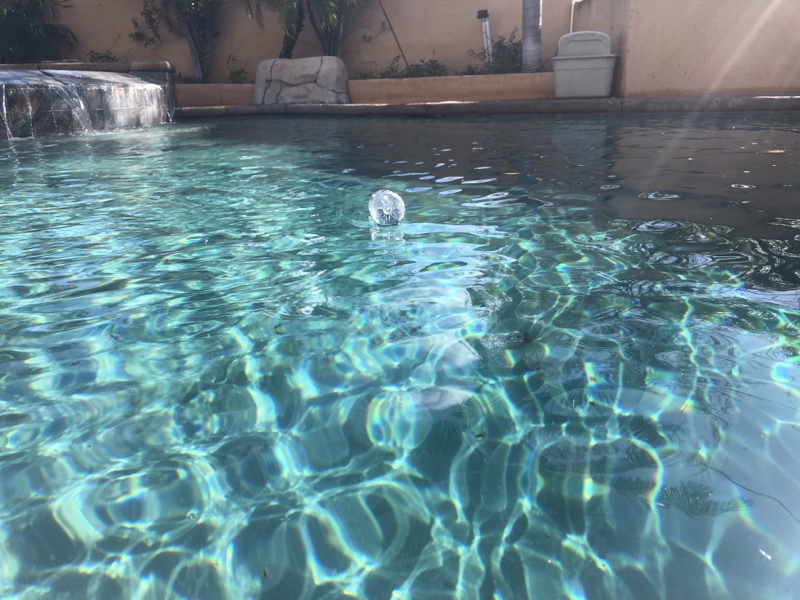Plastic Bottle: (368, 185, 407, 230)
